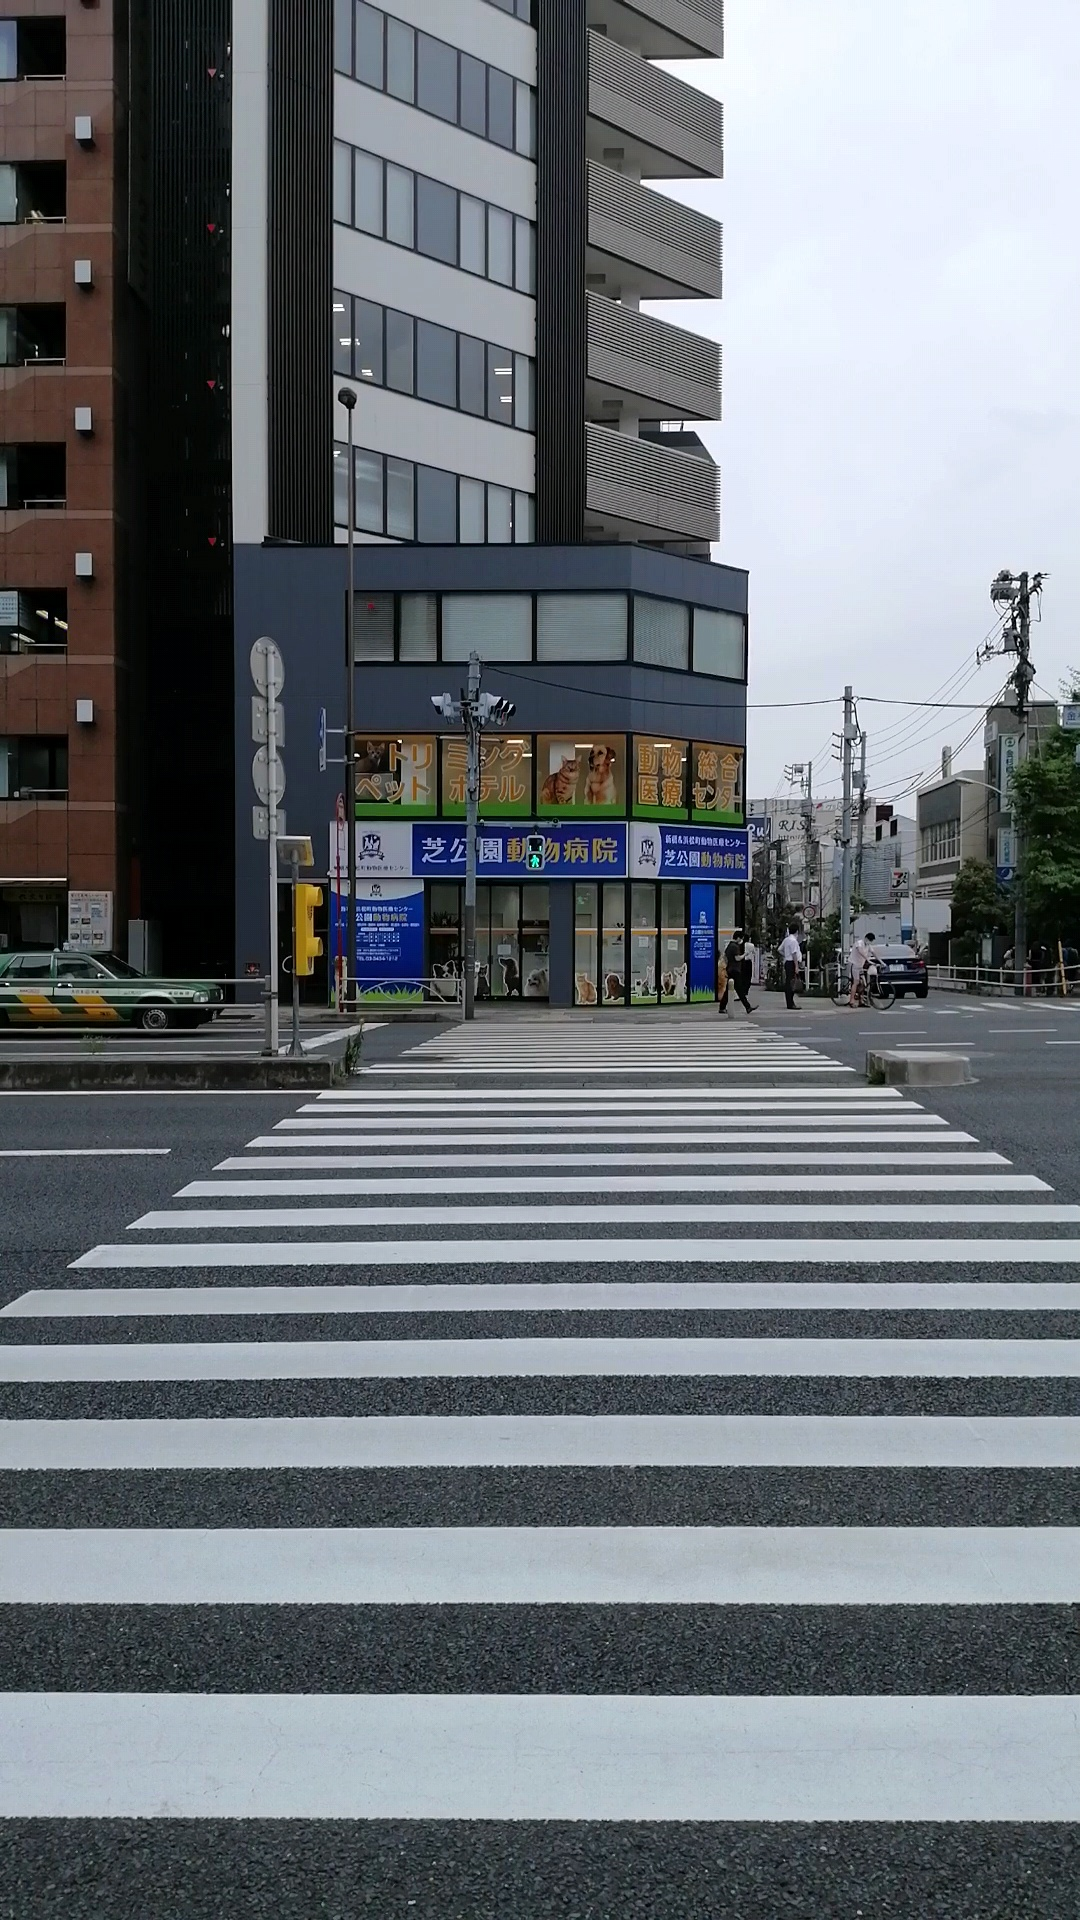green: (524, 833, 543, 873)
